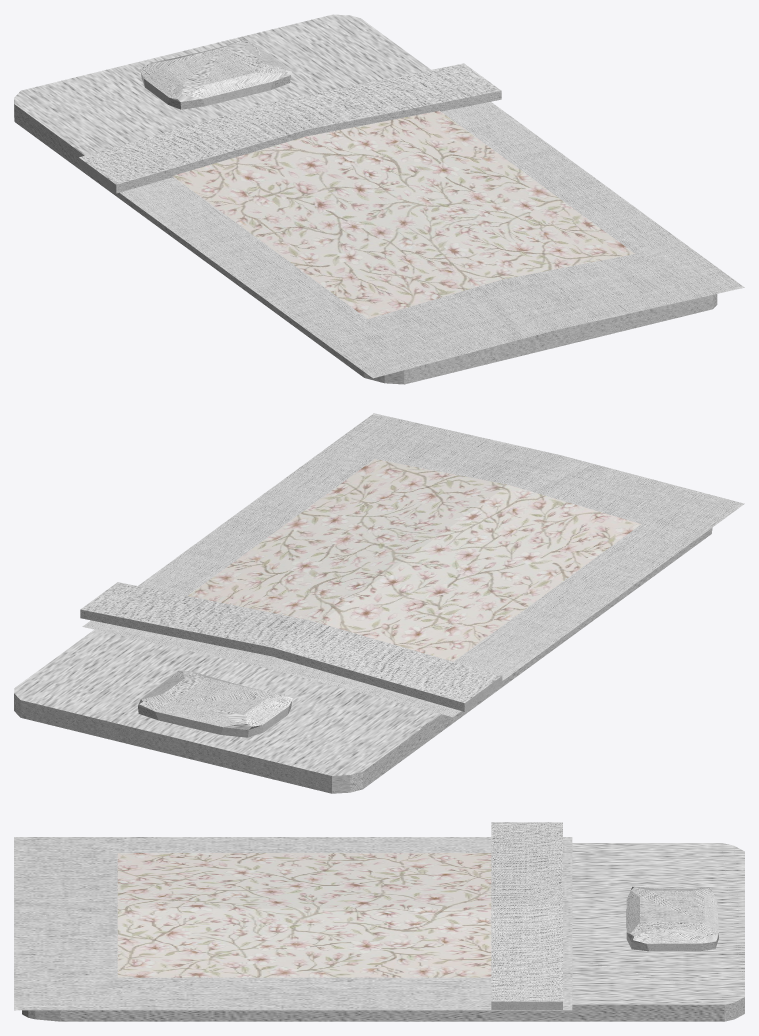
The model's file is Futon.fbx.
3 views of the same model, one above another, from view 1: azimuth 30°, elevation 25°; view 2: azimuth 150°, elevation 25°; view 3: azimuth 270°, elevation 25° (orthographic). The views are drawn at different scales.
Parts seen in each view (by area): view 1: Futon; view 2: Futon; view 3: Futon.
Boxes of the visible parts, bbox=[...] form: Futon: bbox=[14, 14, 744, 384]; Futon: bbox=[14, 413, 744, 793]; Futon: bbox=[14, 822, 744, 1021].
Bounding box in the file's own units: 222 × 21.24 × 382.
